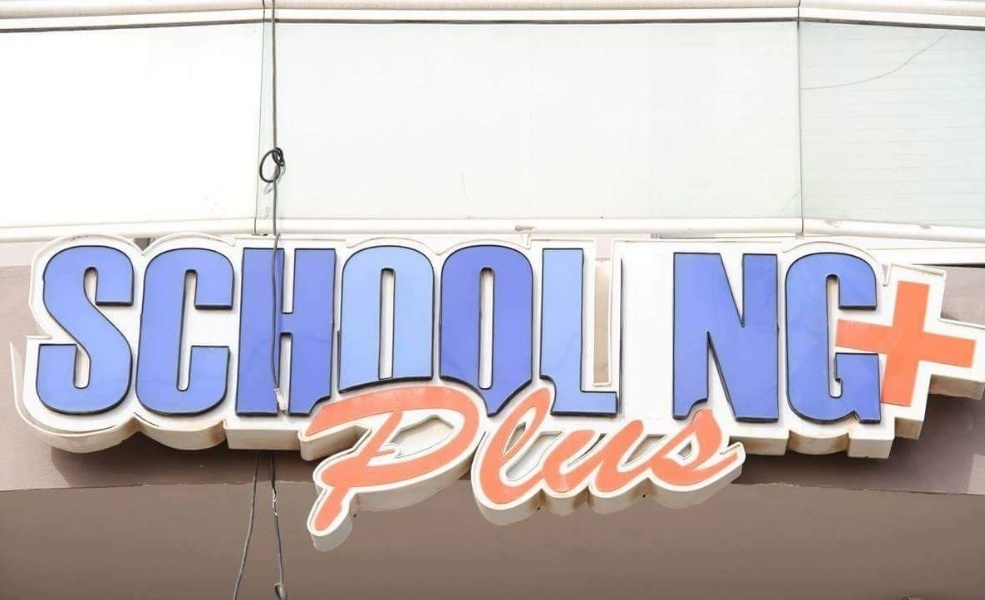text: (33, 240, 48, 424), (49, 240, 64, 424), (65, 240, 80, 424), (81, 240, 96, 424), (97, 240, 112, 424), (113, 240, 128, 424), (129, 240, 144, 424), (145, 240, 160, 424), (161, 240, 176, 424), (177, 240, 192, 424), (193, 240, 208, 424), (209, 240, 224, 424), (225, 240, 240, 424), (241, 240, 256, 424), (257, 240, 272, 424), (273, 240, 288, 424), (289, 240, 304, 424), (305, 240, 320, 424), (321, 240, 336, 424), (337, 240, 352, 424), (353, 240, 368, 424), (369, 240, 384, 424), (385, 240, 400, 424), (401, 240, 416, 424), (417, 240, 432, 424), (433, 240, 448, 424), (449, 240, 464, 424), (465, 240, 480, 424), (481, 240, 496, 424), (497, 240, 512, 424), (513, 240, 528, 424), (529, 240, 544, 424), (545, 240, 560, 424), (561, 240, 576, 424), (577, 240, 592, 424), (593, 240, 608, 424), (689, 250, 704, 428), (705, 250, 720, 428), (721, 250, 736, 428), (737, 250, 752, 428), (753, 250, 768, 428), (769, 250, 784, 428), (785, 250, 800, 428), (801, 250, 816, 428), (817, 250, 832, 428), (833, 250, 848, 428), (849, 250, 864, 428), (865, 250, 880, 428), (881, 250, 896, 428), (897, 250, 912, 428), (913, 250, 928, 428), (929, 250, 944, 428), (945, 250, 960, 428), (961, 250, 976, 428), (609, 240, 623, 424), (674, 250, 688, 428), (337, 376, 352, 541), (353, 376, 368, 541), (369, 376, 384, 541), (385, 376, 400, 541), (401, 376, 416, 541), (417, 376, 432, 541), (433, 376, 448, 541), (449, 376, 464, 541), (465, 376, 480, 541), (481, 376, 496, 541), (497, 376, 512, 541), (513, 376, 528, 541), (529, 376, 544, 541), (545, 376, 560, 541), (561, 376, 576, 541), (577, 376, 592, 541), (593, 376, 608, 541), (609, 376, 624, 541), (625, 376, 640, 541), (641, 376, 656, 541), (657, 376, 672, 541), (673, 376, 688, 541), (689, 376, 704, 541), (705, 376, 720, 541), (721, 376, 736, 541), (737, 376, 752, 541), (977, 250, 981, 428), (333, 376, 336, 541), (753, 376, 756, 541)
